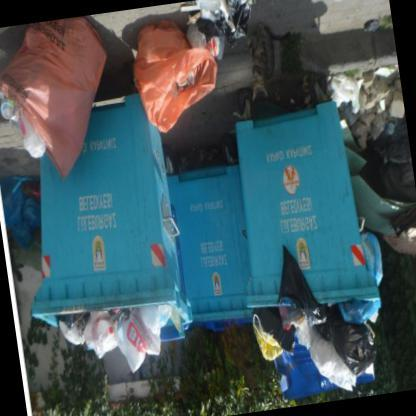Garbage: (0, 12, 140, 186), (250, 290, 392, 400), (132, 13, 224, 132), (58, 310, 120, 374), (328, 302, 380, 376), (115, 312, 174, 377), (183, 0, 261, 49), (252, 304, 304, 374), (308, 338, 349, 386), (364, 230, 392, 283)
